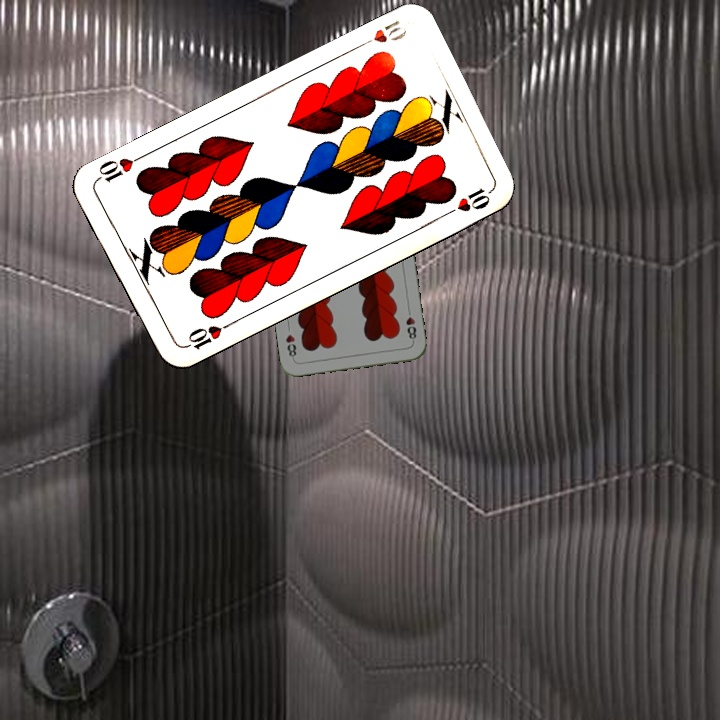H10: (179, 318, 234, 353), (353, 15, 402, 51)
H8: (402, 304, 419, 344)
